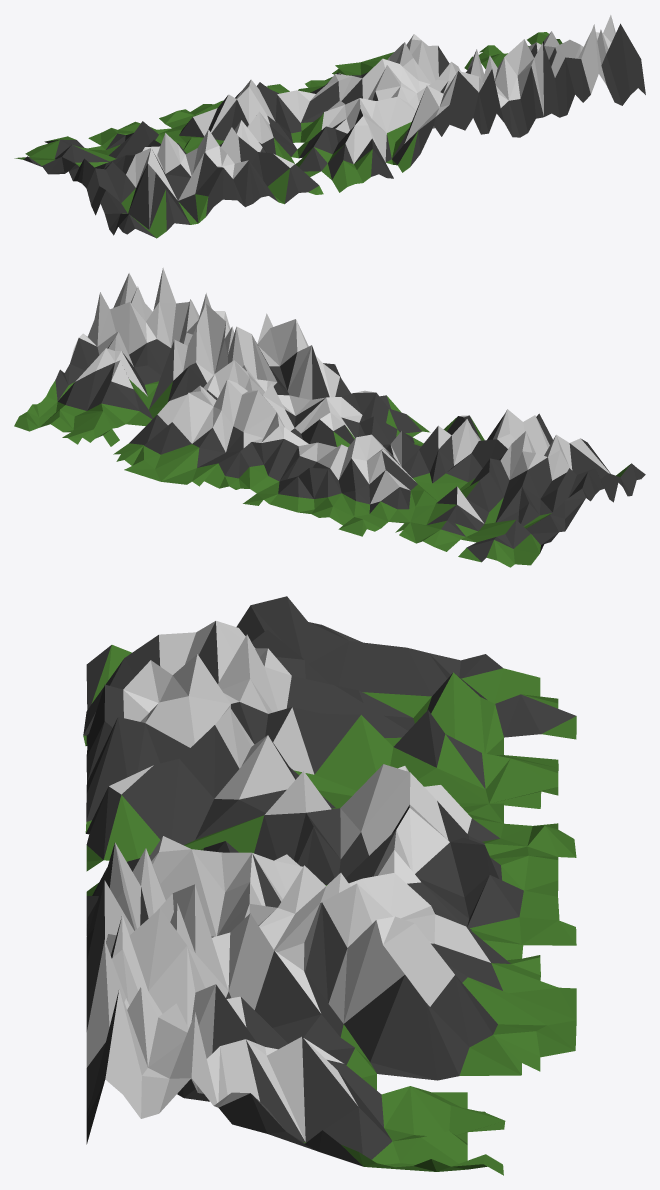
The model's file is Mountain1_low.fbx.
The picture shows the model from 3 angles, top to bottom: view 1: azimuth 30°, elevation 25°; view 2: azimuth 150°, elevation 25°; view 3: azimuth 270°, elevation 25°; orthographic projection. The views are drawn at different scales.
Visible parts, largest first — view 1: Plane.010; view 2: Plane.010; view 3: Plane.010.
Part boxes in pixels (x1,y1,x2,y2): Plane.010: (14,15,645,238); Plane.010: (14,267,645,567); Plane.010: (83,596,576,1175).
Size of the model in its own units: 2001 by 383 by 824.
